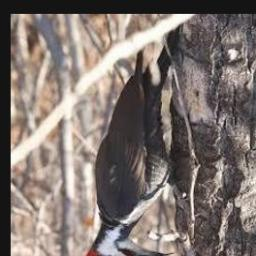Woodpecker: (80, 26, 176, 256)
